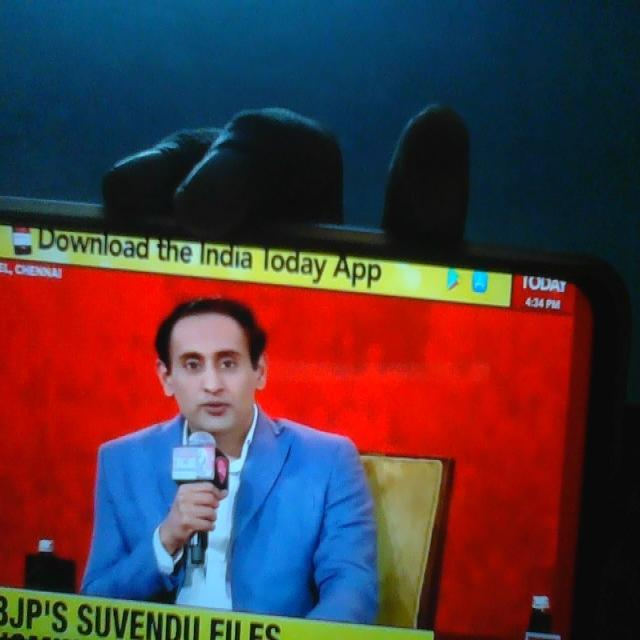fake: (163, 268, 262, 456)
